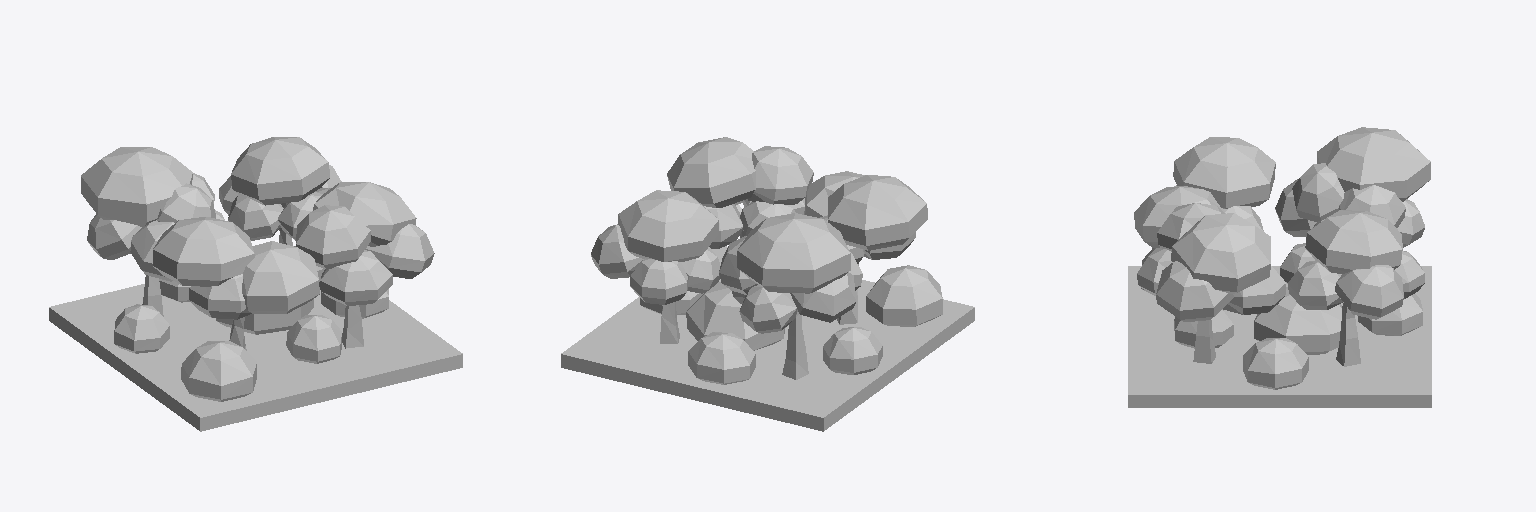
File: park_base_decorated_trees.obj
3 renders of one model, left to right at view 1: azimuth 30°, elevation 25°; view 2: azimuth 150°, elevation 25°; view 3: azimuth 270°, elevation 25°, orthographic.
Parts seen in each view (by area): view 1: park_base_decorated_trees_Cube.14202; view 2: park_base_decorated_trees_Cube.14202; view 3: park_base_decorated_trees_Cube.14202.
Part boxes in pixels (x1,y1,x2,y2): park_base_decorated_trees_Cube.14202: (49, 137, 462, 431); park_base_decorated_trees_Cube.14202: (561, 137, 974, 431); park_base_decorated_trees_Cube.14202: (1128, 127, 1431, 407).
Size of the model in its own units: 2 by 1.28 by 2.